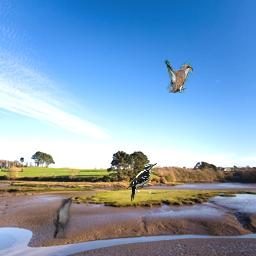Cuckoo: (161, 53, 193, 93), (53, 199, 72, 239)
Woodpecker: (127, 162, 157, 202)
